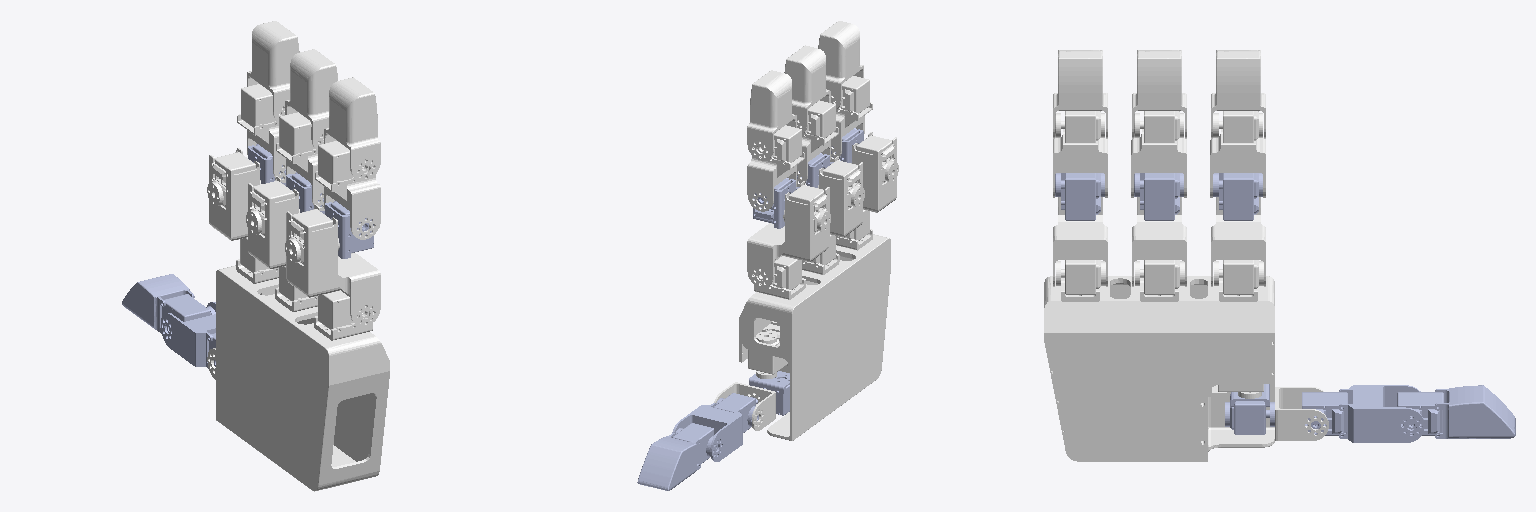
--- Facts derived from the render (not from the file) ---
The picture shows the robot from 3 angles, left to right: view 1: azimuth 30°, elevation 25°; view 2: azimuth 150°, elevation 25°; view 3: azimuth 270°, elevation 25°; orthographic projection.
Robot: leap_hands_sensors — 18 links, 17 joints (16 revolute, 1 fixed); root link world; default pose: every joint at zero.
Links seen in each view (by area): view 1: base_link, link3_1, link3_4, link3_3, link1_1, link2_1, link2_4, link1_4, thumb_link3, link1_3, link2_3, thumb_link2 (+3 smaller); view 2: base_link, link1_1, thumb_link3, link1_4, link1_3, thumb_link2, link3_1, link2_1, link2_4, link3_4, link2_3, link3_3 (+3 smaller); view 3: base_link, thumb_link2, thumb_link3, link1_3, link2_3, link3_3, link3_4, link2_4, link1_4, link1_1, link2_1, link3_1 (+5 smaller).
Link boxes in pixels (x1,y1,x2,y2): base_link: (216, 237, 389, 491); link3_1: (285, 204, 380, 326); link3_4: (324, 77, 380, 180); link3_3: (315, 141, 380, 239); link1_1: (207, 148, 261, 240); link2_1: (246, 176, 317, 296); link2_4: (285, 49, 337, 150); link1_4: (247, 21, 299, 121); thumb_link3: (122, 274, 215, 333); link1_3: (237, 84, 285, 182); link2_3: (276, 112, 324, 210); thumb_link2: (161, 302, 215, 368); base_link: (739, 210, 890, 440); link1_1: (747, 181, 830, 287); thumb_link3: (637, 423, 717, 490); link1_4: (747, 70, 796, 160); link1_3: (747, 125, 804, 211); thumb_link2: (672, 393, 758, 461); link3_1: (852, 132, 898, 212); link2_1: (818, 156, 864, 237); link2_4: (784, 45, 830, 133); link3_4: (818, 21, 863, 108); link2_3: (797, 100, 838, 186); link3_3: (830, 76, 872, 161); base_link: (1044, 260, 1274, 461); thumb_link2: (1302, 385, 1424, 442); thumb_link3: (1397, 385, 1515, 438); link1_3: (1210, 111, 1265, 197); link2_3: (1131, 111, 1186, 197); link3_3: (1053, 111, 1107, 197); link3_4: (1053, 50, 1107, 138); link2_4: (1132, 50, 1186, 138); link1_4: (1211, 50, 1265, 138); link1_1: (1211, 196, 1265, 286); link2_1: (1132, 196, 1186, 286); link3_1: (1053, 196, 1107, 286).
Bounding box of the posed robot: 0.0768 × 0.3579 × 0.3349 m (x, y, z).
17 mesh visuals loaded from 17 distinct referenced files (17 binary STL).

URDF robot description (leap_hands_sensors):
<?xml version="1.0" encoding="utf-8" ?>
<!-- This URDF was automatically created by SolidWorks to URDF Exporter! Originally created by Stephen Brawner ([email redacted]) 
     Commit Version: 1.6.0-4-g7f85cfe  Build Version: 1.6.7995.38578
     For more information, please see http://wiki.ros.org/sw_urdf_exporter -->
<robot name="leap_hands_sensors">
    <link name="world" />
    <joint name="world_to_base" type="fixed">
        <parent link="world" />
        <child link="base_link" />
        <origin xyz="0 0 0" rpy="0 0 0" />
    </joint>
    <link name="base_link">
        <inertial>
            <origin xyz="0.000192010859536108 0.00561136739440215 0.0863994249425732" rpy="0 0 0" />
            <mass value="0.339907849406728" />
            <inertia ixx="0.000999054881917572" ixy="2.61862898219978E-06" ixz="1.15286491170818E-05" iyy="0.000495737866552878" iyz="-6.2038226410816E-06" izz="0.000613879769481654" />
        </inertial>
        <visual>
            <origin xyz="0 0 0" rpy="0 0 0" />
            <geometry>
                <mesh filename="package://leap_hands_sensors/meshes/base_link.STL" />
            </geometry>
            <material name="">
                <color rgba="1 1 1 1" />
            </material>
        </visual>
        <collision>
            <origin xyz="0 0 0" rpy="0 0 0" />
            <geometry>
                <mesh filename="package://leap_hands_sensors/meshes/base_link.STL" />
            </geometry>
        </collision>
    </link>
    <link name="thumb_link0">
        <inertial>
            <origin xyz="0.00635871340159353 -0.000529366076100948 0.0346316491938202" rpy="0 0 0" />
            <mass value="0.0266804832436073" />
            <inertia ixx="2.80623400956804E-06" ixy="-2.37451311715859E-08" ixz="1.02793776569846E-10" iyy="3.92484071972271E-06" iyz="-3.50621450694263E-14" izz="4.12909434455265E-06" />
        </inertial>
        <visual>
            <origin xyz="0 0 0" rpy="0 0 0" />
            <geometry>
                <mesh filename="package://leap_hands_sensors/meshes/thumb_link0.STL" />
            </geometry>
            <material name="">
                <color rgba="0.792156862745098 0.819607843137255 0.933333333333333 1" />
            </material>
        </visual>
        <collision>
            <origin xyz="0 0 0" rpy="0 0 0" />
            <geometry>
                <mesh filename="package://leap_hands_sensors/meshes/thumb_link0.STL" />
            </geometry>
        </collision>
    </link>
    <joint name="joint_thumb_0" type="revolute">
        <origin xyz="0.00994999999999999 0.0686500000000001 0.0678" rpy="-3.14159265358979 0 3.14159265358979" />
        <parent link="base_link" />
        <child link="thumb_link0" />
        <axis xyz="0 0 1" />
        <limit lower="-0.314" upper="1.57" effort="0.95" velocity="2.42" />
    </joint>
    <link name="thumb_link1">
        <inertial>
            <origin xyz="6.93889390390723E-18 9.71445146547012E-17 -0.0297704842451003" rpy="0 0 0" />
            <mass value="0.00631322406020068" />
            <inertia ixx="2.65974771229312E-06" ixy="-3.0701160951563E-22" ixz="-1.45757844337017E-21" iyy="1.21593624074906E-06" iyz="-6.67766515741628E-21" izz="2.19813180792017E-06" />
        </inertial>
        <visual>
            <origin xyz="0 0 0" rpy="0 0 0" />
            <geometry>
                <mesh filename="package://leap_hands_sensors/meshes/thumb_link1.STL" />
            </geometry>
            <material name="">
                <color rgba="1 1 1 1" />
            </material>
        </visual>
        <collision>
            <origin xyz="0 0 0" rpy="0 0 0" />
            <geometry>
                <mesh filename="package://leap_hands_sensors/meshes/thumb_link1.STL" />
            </geometry>
        </collision>
    </link>
    <joint name="joint_thumb_1" type="revolute">
        <origin xyz="1.00000000000031E-05 0 0.036" rpy="1.5707963267949 -1.5707963267949 0" />
        <parent link="thumb_link0" />
        <child link="thumb_link1" />
        <axis xyz="0 0 1" />
        <limit lower="-1.57" upper="1.57" effort="0.95" velocity="4.24" />
    </joint>
    <link name="thumb_link2">
        <inertial>
            <origin xyz="-2.82602271654137E-06 -0.0259258828327467 0.000336898624326683" rpy="0 0 0" />
            <mass value="0.0569149616096496" />
            <inertia ixx="1.26415617749198E-05" ixy="1.4003331089783E-13" ixz="3.50621452243423E-14" iyy="1.04625862519556E-05" iyz="-2.37451311715902E-08" izz="9.33497180499109E-06" />
        </inertial>
        <visual>
            <origin xyz="0 0 0" rpy="0 0 0" />
            <geometry>
                <mesh filename="package://leap_hands_sensors/meshes/thumb_link2.STL" />
            </geometry>
            <material name="">
                <color rgba="0.792156862745098 0.819607843137255 0.933333333333333 1" />
            </material>
        </visual>
        <collision>
            <origin xyz="0 0 0" rpy="0 0 0" />
            <geometry>
                <mesh filename="package://leap_hands_sensors/meshes/thumb_link2.STL" />
            </geometry>
        </collision>
    </link>
    <joint name="joint_thumb_2" type="revolute">
        <origin xyz="0 0.000100000000000051 -0.05" rpy="1.5707963267949 0 3.14159265358979" />
        <parent link="thumb_link1" />
        <child link="thumb_link2" />
        <axis xyz="0 0 1" />
        <limit lower="-0.314" upper="1.57" effort="0.95" velocity="2.42" />
    </joint>
    <link name="thumb_link3">
        <inertial>
            <origin xyz="3.60875872345914E-05 -0.0329626771696209 0.000229342832769985" rpy="0 0 0" />
            <mass value="0.0639707502403985" />
            <inertia ixx="1.35996030773995E-05" ixy="-1.36946715851458E-06" ixz="4.00025670697411E-11" iyy="8.77985070105528E-06" iyz="-2.37470112723229E-08" izz="1.29985179371957E-05" />
        </inertial>
        <visual>
            <origin xyz="0 0 0" rpy="0 0 0" />
            <geometry>
                <mesh filename="package://leap_hands_sensors/meshes/thumb_link3.STL" />
            </geometry>
            <material name="">
                <color rgba="0.792156862745098 0.819607843137255 0.933333333333333 1" />
            </material>
        </visual>
        <collision>
            <origin xyz="0 0 0" rpy="0 0 0" />
            <geometry>
                <mesh filename="package://leap_hands_sensors/meshes/thumb_link3.STL" />
            </geometry>
        </collision>
    </link>
    <joint name="joint_thumb_3" type="revolute">
        <origin xyz="0 -0.07285 3.99999999999429E-05" rpy="0 0 0" />
        <parent link="thumb_link2" />
        <child link="thumb_link3" />
        <axis xyz="0 0 1" />
        <limit lower="-0.314" upper="1.57" effort="0.95" velocity="2.42" />
    </joint>
    <link name="link1_1">
        <inertial>
            <origin xyz="-0.042359147837832 -0.0252071672019934 0.000132615138007164" rpy="0 0 0" />
            <mass value="0.0758406131950689" />
            <inertia ixx="2.73594032205275E-05" ixy="-6.4789500531738E-06" ixz="2.0125664275419E-11" iyy="1.92543860151484E-05" iyz="9.57638652458169E-11" izz="2.98969695156201E-05" />
        </inertial>
        <visual>
            <origin xyz="0 0 0" rpy="0 0 0" />
            <geometry>
                <mesh filename="package://leap_hands_sensors/meshes/link1_1.STL" />
            </geometry>
            <material name="">
                <color rgba="1 1 1 1" />
            </material>
        </visual>
        <collision>
            <origin xyz="0 0 0" rpy="0 0 0" />
            <geometry>
                <mesh filename="package://leap_hands_sensors/meshes/link1_1.STL" />
            </geometry>
        </collision>
    </link>
    <joint name="joint_1_1" type="revolute">
        <origin xyz="0.00950999999999999 0.0600000000000001 0.1495" rpy="1.5707963267949 1.5707963267949 0" />
        <parent link="base_link" />
        <child link="link1_1" />
        <axis xyz="0 0 -1" />
        <limit lower="-0.314" upper="1.57" effort="0.95" velocity="2.42" />
    </joint>
    <link name="link1_2">
        <inertial>
            <origin xyz="0.000538542178922768 -0.0097920622707458 -0.0346598350000008" rpy="0 0 0" />
            <mass value="0.0272416271930086" />
            <inertia ixx="3.92667046561588E-06" ixy="2.37451311715874E-08" ixz="3.50621457971462E-14" iyy="2.8471932929542E-06" iyz="-1.03073843195019E-10" izz="4.17005362793882E-06" />
        </inertial>
        <visual>
            <origin xyz="0 0 0" rpy="0 0 0" />
            <geometry>
                <mesh filename="package://leap_hands_sensors/meshes/link1_2.STL" />
            </geometry>
            <material name="">
                <color rgba="0.792156862745098 0.819607843137255 0.933333333333333 1" />
            </material>
        </visual>
        <collision>
            <origin xyz="0 0 0" rpy="0 0 0" />
            <geometry>
                <mesh filename="package://leap_hands_sensors/meshes/link1_2.STL" />
            </geometry>
        </collision>
    </link>
    <joint name="joint_1_2" type="revolute">
        <origin xyz="-0.05836 -0.036 0.000199999999999957" rpy="1.5707963267949 1.5707963267949 0" />
        <parent link="link1_1" />
        <child link="link1_2" />
        <axis xyz="0 0 -1" />
        <limit lower="-1.047" upper="1.047" effort="0.95" velocity="2.42" />
    </joint>
    <link name="link1_3">
        <inertial>
            <origin xyz="-0.00368217771244009 0.0371428825324757 -0.000246685002863234" rpy="0 0 0" />
            <mass value="0.0494548546446004" />
            <inertia ixx="8.07572025923031E-06" ixy="2.27769397312737E-07" ixz="2.37451311715831E-08" iyy="9.41486864117216E-06" iyz="-3.50621462515094E-14" izz="7.20241172040266E-06" />
        </inertial>
        <visual>
            <origin xyz="0 0 0" rpy="0 0 0" />
            <geometry>
                <mesh filename="package://leap_hands_sensors/meshes/link1_3.STL" />
            </geometry>
            <material name="">
                <color rgba="1 1 1 1" />
            </material>
        </visual>
        <collision>
            <origin xyz="0 0 0" rpy="0 0 0" />
            <geometry>
                <mesh filename="package://leap_hands_sensors/meshes/link1_3.STL" />
            </geometry>
        </collision>
    </link>
    <joint name="joint_1_3" type="revolute">
        <origin xyz="0 -0.0160099999999999 -0.036" rpy="3.14159265358979 1.5707963267949 0" />
        <parent link="link1_2" />
        <child link="link1_3" />
        <axis xyz="0 0 -1" />
        <limit lower="-0.314" upper="1.57" effort="0.95" velocity="2.42" />
    </joint>
    <link name="link1_4">
        <inertial>
            <origin xyz="0.0364385540543888 0.000117347902355215 9.99803508941605E-05" rpy="0 0 0" />
            <mass value="0.0391977997319107" />
            <inertia ixx="6.70148748791325E-06" ixy="-5.88182463579405E-08" ixz="1.06560154170185E-11" iyy="1.24483999424001E-05" iyz="-2.18797121157454E-12" izz="9.89509117602692E-06" />
        </inertial>
        <visual>
            <origin xyz="0 0 0" rpy="0 0 0" />
            <geometry>
                <mesh filename="package://leap_hands_sensors/meshes/link1_4.STL" />
            </geometry>
            <material name="">
                <color rgba="1 1 1 1" />
            </material>
        </visual>
        <collision>
            <origin xyz="0 0 0" rpy="0 0 0" />
            <geometry>
                <mesh filename="package://leap_hands_sensors/meshes/link1_4.STL" />
            </geometry>
        </collision>
    </link>
    <joint name="joint_1_4" type="revolute">
        <origin xyz="0 0.05 0" rpy="3.14159265358979 0 1.5707963267949" />
        <parent link="link1_3" />
        <child link="link1_4" />
        <axis xyz="0 0 1" />
        <limit lower="-0.314" upper="1.57" effort="0.95" velocity="2.42" />
    </joint>
    <link name="link2_1">
        <inertial>
            <origin xyz="-0.0423591478627871 -0.0252071672188181 0.000132615123431455" rpy="0 0 0" />
            <mass value="0.0758406131041249" />
            <inertia ixx="2.73594032028566E-05" ixy="-6.47895004629264E-06" ixz="2.01379125868162E-11" iyy="1.92543859912963E-05" iyz="9.5773535338083E-11" izz="2.98969695021654E-05" />
        </inertial>
        <visual>
            <origin xyz="0 0 0" rpy="0 0 0" />
            <geometry>
                <mesh filename="package://leap_hands_sensors/meshes/link2_1.STL" />
            </geometry>
            <material name="">
                <color rgba="1 1 1 1" />
            </material>
        </visual>
        <collision>
            <origin xyz="0 0 0" rpy="0 0 0" />
            <geometry>
                <mesh filename="package://leap_hands_sensors/meshes/link2_1.STL" />
            </geometry>
        </collision>
    </link>
    <joint name="joint_2_1" type="revolute">
        <origin xyz="0.00951 0 0.1495" rpy="1.5707963267949 1.5707963267949 0" />
        <parent link="base_link" />
        <child link="link2_1" />
        <axis xyz="0 0 -1" />
        <limit lower="-0.314" upper="1.57" effort="0.95" velocity="2.42" />
    </joint>
    <link name="link2_2">
        <inertial>
            <origin xyz="0.000538542178922829 -0.00979206227074589 -0.0346598350000008" rpy="0 0 0" />
            <mass value="0.0272416271930087" />
            <inertia ixx="3.92667046561589E-06" ixy="2.37451311715866E-08" ixz="3.50621456763199E-14" iyy="2.84719329295421E-06" iyz="-1.03073843194552E-10" izz="4.17005362793882E-06" />
        </inertial>
        <visual>
            <origin xyz="0 0 0" rpy="0 0 0" />
            <geometry>
                <mesh filename="package://leap_hands_sensors/meshes/link2_2.STL" />
            </geometry>
            <material name="">
                <color rgba="0.792156862745098 0.819607843137255 0.933333333333333 1" />
            </material>
        </visual>
        <collision>
            <origin xyz="0 0 0" rpy="0 0 0" />
            <geometry>
                <mesh filename="package://leap_hands_sensors/meshes/link2_2.STL" />
            </geometry>
        </collision>
    </link>
    <joint name="joint_2_2" type="revolute">
        <origin xyz="-0.05836 -0.036 0.000199999999999955" rpy="1.5707963267949 1.5707963267949 0" />
        <parent link="link2_1" />
        <child link="link2_2" />
        <axis xyz="0 0 -1" />
        <limit lower="-1.047" upper="1.047" effort="0.95" velocity="2.42" />
    </joint>
    <link name="link2_3">
        <inertial>
            <origin xyz="-0.00368217771244009 0.0371428825324756 -0.000246685002863234" rpy="0 0 0" />
            <mass value="0.0494548546446004" />
            <inertia ixx="8.0757202592303E-06" ixy="2.27769397312738E-07" ixz="2.37451311715829E-08" iyy="9.41486864117216E-06" iyz="-3.50621462530372E-14" izz="7.20241172040265E-06" />
        </inertial>
        <visual>
            <origin xyz="0 0 0" rpy="0 0 0" />
            <geometry>
                <mesh filename="package://leap_hands_sensors/meshes/link2_3.STL" />
            </geometry>
            <material name="">
                <color rgba="1 1 1 1" />
            </material>
        </visual>
        <collision>
            <origin xyz="0 0 0" rpy="0 0 0" />
            <geometry>
                <mesh filename="package://leap_hands_sensors/meshes/link2_3.STL" />
            </geometry>
        </collision>
    </link>
    <joint name="joint_2_3" type="revolute">
        <origin xyz="0 -0.01601 -0.036" rpy="3.14159265358979 1.5707963267949 0" />
        <parent link="link2_2" />
        <child link="link2_3" />
        <axis xyz="0 0 -1" />
        <limit lower="-0.314" upper="1.57" effort="0.95" velocity="2.42" />
    </joint>
    <link name="link2_4">
        <inertial>
            <origin xyz="0.0364385540543889 0.000117347902355319 9.99803508941639E-05" rpy="0 0 0" />
            <mass value="0.0391977997319106" />
            <inertia ixx="6.70148748791291E-06" ixy="-5.88182463580747E-08" ixz="1.06560154014046E-11" iyy="1.24483999424001E-05" iyz="-2.18797121834816E-12" izz="9.8950911760266E-06" />
        </inertial>
        <visual>
            <origin xyz="0 0 0" rpy="0 0 0" />
            <geometry>
                <mesh filename="package://leap_hands_sensors/meshes/link2_4.STL" />
            </geometry>
            <material name="">
                <color rgba="1 1 1 1" />
            </material>
        </visual>
        <collision>
            <origin xyz="0 0 0" rpy="0 0 0" />
            <geometry>
                <mesh filename="package://leap_hands_sensors/meshes/link2_4.STL" />
            </geometry>
        </collision>
    </link>
    <joint name="joint_2_4" type="revolute">
        <origin xyz="0 0.05 0" rpy="3.14159265358979 0 1.5707963267949" />
        <parent link="link2_3" />
        <child link="link2_4" />
        <axis xyz="0 0 1" />
        <limit lower="-0.314" upper="1.57" effort="0.95" velocity="2.42" />
    </joint>
    <link name="link3_1">
        <inertial>
            <origin xyz="-0.042359147837832 -0.0252071672019933 0.000132615138007136" rpy="0 0 0" />
            <mass value="0.0758406131950689" />
            <inertia ixx="2.73594032205275E-05" ixy="-6.47895005317378E-06" ixz="2.01256642838226E-11" iyy="1.92543860151484E-05" iyz="9.57638652431645E-11" izz="2.98969695156201E-05" />
        </inertial>
        <visual>
            <origin xyz="0 0 0" rpy="0 0 0" />
            <geometry>
                <mesh filename="package://leap_hands_sensors/meshes/link3_1.STL" />
            </geometry>
            <material name="">
                <color rgba="1 1 1 1" />
            </material>
        </visual>
        <collision>
            <origin xyz="0 0 0" rpy="0 0 0" />
            <geometry>
                <mesh filename="package://leap_hands_sensors/meshes/link3_1.STL" />
            </geometry>
        </collision>
    </link>
    <joint name="joint_3_1" type="revolute">
        <origin xyz="0.00951000000000001 -0.0599999999999999 0.1495" rpy="1.5707963267949 1.5707963267949 0" />
        <parent link="base_link" />
        <child link="link3_1" />
        <axis xyz="0 0 -1" />
        <limit lower="-0.314" upper="1.57" effort="0.95" velocity="2.42" />
    </joint>
    <link name="link3_2">
        <inertial>
            <origin xyz="0.000538542178922852 -0.00979206227074583 -0.0346598350000008" rpy="0 0 0" />
            <mass value="0.0272416271930086" />
            <inertia ixx="3.92667046561587E-06" ixy="2.37451311715867E-08" ixz="3.50621451709634E-14" iyy="2.8471932929542E-06" iyz="-1.03073843195546E-10" izz="4.17005362793881E-06" />
        </inertial>
        <visual>
            <origin xyz="0 0 0" rpy="0 0 0" />
            <geometry>
                <mesh filename="package://leap_hands_sensors/meshes/link3_2.STL" />
            </geometry>
            <material name="">
                <color rgba="0.792156862745098 0.819607843137255 0.933333333333333 1" />
            </material>
        </visual>
        <collision>
            <origin xyz="0 0 0" rpy="0 0 0" />
            <geometry>
                <mesh filename="package://leap_hands_sensors/meshes/link3_2.STL" />
            </geometry>
        </collision>
    </link>
    <joint name="joint_3_2" type="revolute">
        <origin xyz="-0.05836 -0.036 0.000199999999999964" rpy="1.5707963267949 1.5707963267949 0" />
        <parent link="link3_1" />
        <child link="link3_2" />
        <axis xyz="0 0 -1" />
        <limit lower="-1.047" upper="1.047" effort="0.95" velocity="2.42" />
    </joint>
    <link name="link3_3">
        <inertial>
            <origin xyz="-0.00368217771244009 0.0371428825324756 -0.000246685002863178" rpy="0 0 0" />
            <mass value="0.0494548546446004" />
            <inertia ixx="8.07572025923029E-06" ixy="2.27769397312735E-07" ixz="2.37451311715866E-08" iyy="9.41486864117214E-06" iyz="-3.50621444863953E-14" izz="7.20241172040264E-06" />
        </inertial>
        <visual>
            <origin xyz="0 0 0" rpy="0 0 0" />
            <geometry>
                <mesh filename="package://leap_hands_sensors/meshes/link3_3.STL" />
            </geometry>
            <material name="">
                <color rgba="1 1 1 1" />
            </material>
        </visual>
        <collision>
            <origin xyz="0 0 0" rpy="0 0 0" />
            <geometry>
                <mesh filename="package://leap_hands_sensors/meshes/link3_3.STL" />
            </geometry>
        </collision>
    </link>
    <joint name="joint_3_3" type="revolute">
        <origin xyz="0 -0.0160099999999999 -0.036" rpy="3.14159265358979 1.5707963267949 0" />
        <parent link="link3_2" />
        <child link="link3_3" />
        <axis xyz="0 0 -1" />
        <limit lower="-0.314" upper="1.57" effort="0.95" velocity="2.42" />
    </joint>
    <link name="link3_4">
        <inertial>
            <origin xyz="0.0364385540543888 0.000117347902355271 9.99803508941605E-05" rpy="0 0 0" />
            <mass value="0.0391977997319107" />
            <inertia ixx="6.70148748791299E-06" ixy="-5.8818246357873E-08" ixz="1.06560154055785E-11" iyy="1.24483999424001E-05" iyz="-2.18797122003928E-12" izz="9.89509117602667E-06" />
        </inertial>
        <visual>
            <origin xyz="0 0 0" rpy="0 0 0" />
            <geometry>
                <mesh filename="package://leap_hands_sensors/meshes/link3_4.STL" />
            </geometry>
            <material name="">
                <color rgba="1 1 1 1" />
            </material>
        </visual>
        <collision>
            <origin xyz="0 0 0" rpy="0 0 0" />
            <geometry>
                <mesh filename="package://leap_hands_sensors/meshes/link3_4.STL" />
            </geometry>
        </collision>
    </link>
    <joint name="joint_3_4" type="revolute">
        <origin xyz="0 0.05 0" rpy="-3.14159265358979 0 1.5707963267949" />
        <parent link="link3_3" />
        <child link="link3_4" />
        <axis xyz="0 0 1" />
        <limit lower="-0.314" upper="1.57" effort="0.95" velocity="2.42" />
    </joint>
    <!--关键操作：transmission的硬件接口全部设置为hardware_interface/PositionJointInterface-->
    <transmission name="trans_joint_thumb_0">
        <type>transmission_interface/SimpleTransmission</type>
        <joint name="joint_thumb_0">
            <hardwareInterface>hardware_interface/PositionJointInterface</hardwareInterface>
        </joint>
        <actuator name="joint_thumb_0_motor">
            <mechanicalReduction>1</mechanicalReduction>
            <hardwareInterface>hardware_interface/PositionJointInterface</hardwareInterface>
        </actuator>
    </transmission>
    <transmission name="trans_joint_thumb_1">
        <type>transmission_interface/SimpleTransmission</type>
        <joint name="joint_thumb_1">
            <hardwareInterface>hardware_interface/PositionJointInterface</hardwareInterface>
        </joint>
        <actuator name="joint_thumb_1_motor">
            <mechanicalReduction>1</mechanicalReduction>
            <hardwareInterface>hardware_interface/PositionJointInterface</hardwareInterface>
        </actuator>
    </transmission>
    <transmission name="trans_joint_thumb_2">
        <type>transmission_interface/SimpleTransmission</type>
        <joint name="joint_thumb_2">
            <hardwareInterface>hardware_interface/PositionJointInterface</hardwareInterface>
        </joint>
        <actuator name="joint_thumb_2_motor">
            <mechanicalReduction>1</mechanicalReduction>
            <hardwareInterface>hardware_interface/PositionJointInterface</hardwareInterface>
        </actuator>
    </transmission>
    <transmission name="trans_joint_thumb_3">
        <type>transmission_interface/SimpleTransmission</type>
        <joint name="joint_thumb_3">
            <hardwareInterface>hardware_interface/PositionJointInterface</hardwareInterface>
        </joint>
        <actuator name="joint_thumb_3_motor">
            <mechanicalReduction>1</mechanicalReduction>
            <hardwareInterface>hardware_interface/PositionJointInterface</hardwareInterface>
        </actuator>
    </transmission>
    <transmission name="trans_joint_1_1">
        <type>transmission_interface/SimpleTransmission</type>
        <joint name="joint_1_1">
            <hardwareInterface>hardware_interface/PositionJointInterface</hardwareInterface>
        </joint>
        <actuator name="joint_1_1_motor">
            <mechanicalReduction>1</mechanicalReduction>
            <hardwareInterface>hardware_interface/PositionJointInterface</hardwareInterface>
        </actuator>
    </transmission>
    <transmission name="trans_joint_1_2">
        <type>transmission_interface/SimpleTransmission</type>
        <joint name="joint_1_2">
            <hardwareInterface>hardware_interface/PositionJointInterface</hardwareInterface>
        </joint>
        <actuator name="joint_1_2_motor">
            <mechanicalReduction>1</mechanicalReduction>
            <hardwareInterface>hardware_interface/PositionJointInterface</hardwareInterface>
        </actuator>
    </transmission>
    <transmission name="trans_joint_1_3">
        <type>transmission_interface/SimpleTransmission</type>
        <joint name="joint_1_3">
            <hardwareInterface>hardware_interface/PositionJointInterface</hardwareInterface>
        </joint>
        <actuator name="joint_1_3_motor">
            <mechanicalReduction>1</mechanicalReduction>
            <hardwareInterface>hardware_interface/PositionJointInterface</hardwareInterface>
        </actuator>
    </transmission>
    <transmission name="trans_joint_1_4">
        <type>transmission_interface/SimpleTransmission</type>
        <joint name="joint_1_4">
            <hardwareInterface>hardware_interface/PositionJointInterface</hardwareInterface>
        </joint>
        <actuator name="joint_1_4_motor">
            <mechanicalReduction>1</mechanicalReduction>
            <hardwareInterface>hardware_interface/PositionJointInterface</hardwareInterface>
        </actuator>
    </transmission>
    <transmission name="trans_joint_2_1">
        <type>transmission_interface/SimpleTransmission</type>
        <joint name="joint_2_1">
            <hardwareInterface>hardware_interface/PositionJointInterface</hardwareInterface>
        </joint>
        <actuator name="joint_2_1_motor">
            <mechanicalReduction>1</mechanicalReduction>
            <hardwareInterface>hardware_interface/PositionJointInterface</hardwareInterface>
        </actuator>
    </transmission>
    <transmission name="trans_joint_2_2">
        <type>transmission_interface/SimpleTransmission</type>
        <joint name="joint_2_2">
            <hardwareInterface>hardware_interface/PositionJointInterface</hardwareInterface>
        </joint>
        <actuator name="joint_2_2_motor">
            <mechanicalReduction>1</mechanicalReduction>
            <hardwareInterface>hardware_interface/PositionJointInterface</hardwareInterface>
        </actuator>
    </transmission>
    <transmission name="trans_joint_2_3">
        <type>transmission_interface/SimpleTransmission</type>
        <joint name="joint_2_3">
            <hardwareInterface>hardware_interface/PositionJointInterface</hardwareInterface>
        </joint>
        <actuator name="joint_2_3_motor">
            <mechanicalReduction>1</mechanicalReduction>
            <hardwareInterface>hardware_interface/PositionJointInterface</hardwareInterface>
        </actuator>
    </transmission>
    <transmission name="trans_joint_2_4">
        <type>transmission_interface/SimpleTransmission</type>
        <joint name="joint_2_4">
            <hardwareInterface>hardware_interface/PositionJointInterface</hardwareInterface>
        </joint>
        <actuator name="joint_2_4_motor">
            <mechanicalReduction>1</mechanicalReduction>
            <hardwareInterface>hardware_interface/PositionJointInterface</hardwareInterface>
        </actuator>
    </transmission>
    <transmission name="trans_joint_3_1">
        <type>transmission_interface/SimpleTransmission</type>
        <joint name="joint_3_1">
            <hardwareInterface>hardware_interface/PositionJointInterface</hardwareInterface>
        </joint>
        <actuator name="joint_3_1_motor">
            <mechanicalReduction>1</mechanicalReduction>
            <hardwareInterface>hardware_interface/PositionJointInterface</hardwareInterface>
        </actuator>
    </transmission>
    <transmission name="trans_joint_3_2">
        <type>transmission_interface/SimpleTransmission</type>
        <joint name="joint_3_2">
            <hardwareInterface>hardware_interface/PositionJointInterface</hardwareInterface>
        </joint>
        <actuator name="joint_3_2_motor">
            <mechanicalReduction>1</mechanicalReduction>
            <hardwareInterface>hardware_interface/PositionJointInterface</hardwareInterface>
        </actuator>
    </transmission>
    <transmission name="trans_joint_3_3">
        <type>transmission_interface/SimpleTransmission</type>
        <joint name="joint_3_3">
            <hardwareInterface>hardware_interface/PositionJointInterface</hardwareInterface>
        </joint>
        <actuator name="joint_3_3_motor">
            <mechanicalReduction>1</mechanicalReduction>
            <hardwareInterface>hardware_interface/PositionJointInterface</hardwareInterface>
        </actuator>
    </transmission>
    <transmission name="trans_joint_3_4">
        <type>transmission_interface/SimpleTransmission</type>
        <joint name="joint_3_4">
            <hardwareInterface>hardware_interface/PositionJointInterface</hardwareInterface>
        </joint>
        <actuator name="joint_3_4_motor">
            <mechanicalReduction>1</mechanicalReduction>
            <hardwareInterface>hardware_interface/PositionJointInterface</hardwareInterface>
        </actuator>
    </transmission>
    <!--关键操作：设置gazebo插件-->
    <gazebo>
        <plugin name="gazebo_ros_control" filename="libgazebo_ros_control.so">
            <robotNamespace>/</robotNamespace>
            <robotSimType>gazebo_ros_control/DefaultRobotHWSim</robotSimType>
            <robotParam>/robot_description</robotParam>
            <publishJointStates>true</publishJointStates>
            <!-- 禁用PID控制，直接传递位置指令 -->
            <pid_gains_mode>skip</pid_gains_mode>
            <legacyModeNS>true</legacyModeNS>
            <controlPeriod>0.001</controlPeriod>
        </plugin>
    </gazebo>
</robot>
